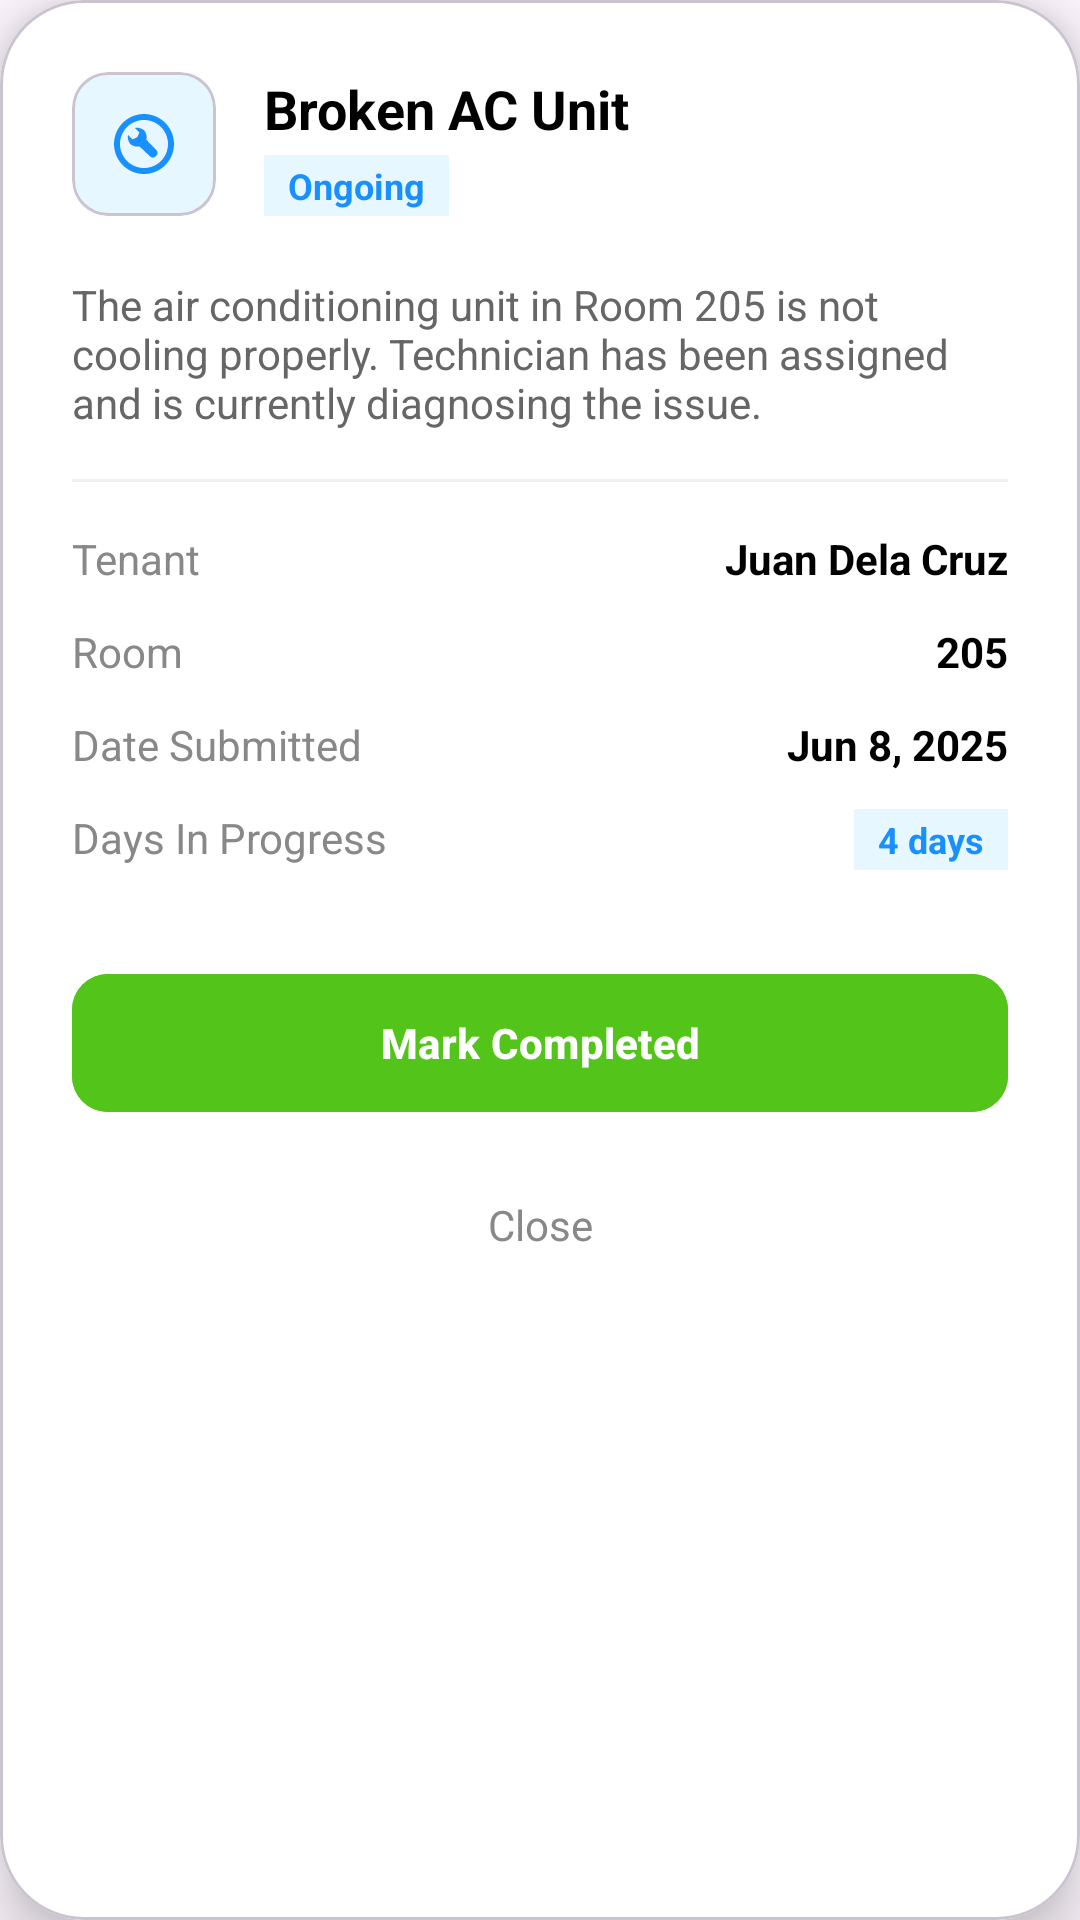

Named icons in this screenshot (1080w x 1920h) and their bounding boxes, rect(x1, y1, x2, y2):
maintenance warning: rect(114, 114, 174, 174)
